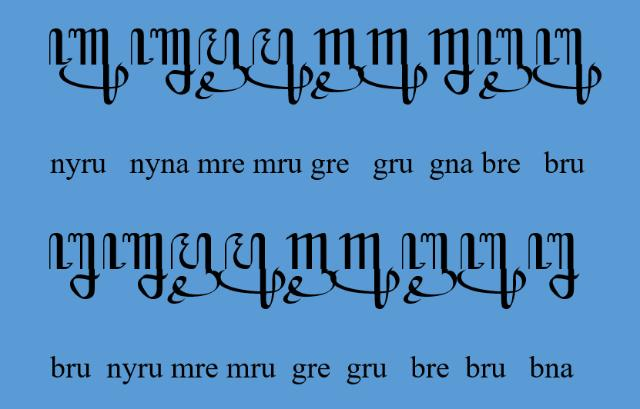bn: (48, 232, 100, 300), (527, 233, 579, 301)
bre: (477, 28, 533, 100), (402, 232, 456, 304)
bru: (457, 232, 527, 311), (532, 27, 602, 105)
gn: (428, 28, 476, 96)
gre: (310, 28, 364, 100), (283, 233, 337, 305)
gru: (330, 232, 400, 310), (359, 28, 427, 104)
mre: (194, 28, 248, 100), (168, 232, 220, 306)
mru: (245, 27, 313, 105), (218, 233, 286, 311)
nyn: (130, 28, 196, 96), (102, 232, 168, 300)
nyru: (49, 27, 130, 104)
